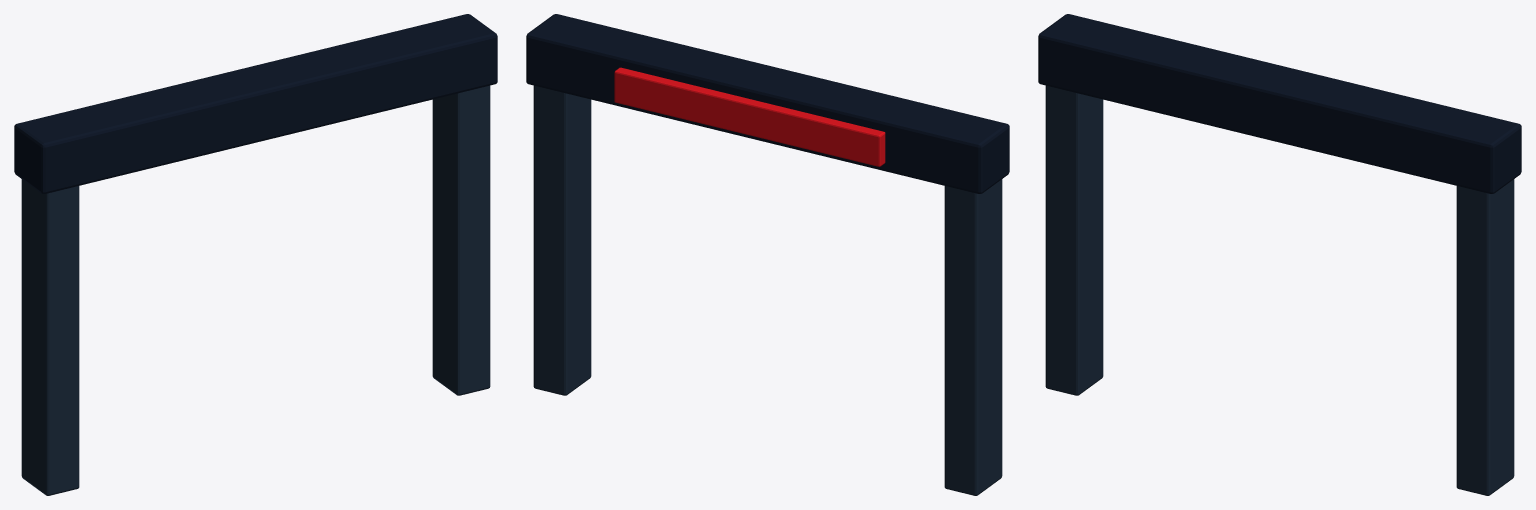
Rendered from neon_start_light_gantry_lod1.obj.
3 views of the same model, side by side, from view 1: azimuth 30°, elevation 25°; view 2: azimuth 150°, elevation 25°; view 3: azimuth 330°, elevation 25° (orthographic).
Parts seen in each view (by area): view 1: race_gantry_lod1_header_M_navy, race_gantry_lod1_post_r_M_gunmetal, race_gantry_lod1_post_l_M_gunmetal; view 2: race_gantry_lod1_header_M_navy, race_gantry_lod1_post_r_M_gunmetal, race_gantry_lod1_post_l_M_gunmetal, race_gantry_lod1_lights_M_red; view 3: race_gantry_lod1_header_M_navy, race_gantry_lod1_post_l_M_gunmetal, race_gantry_lod1_post_r_M_gunmetal.
Boxes of the visible parts, box(x1,y1,x2,y2) form: race_gantry_lod1_header_M_navy: box(14, 14, 497, 193); race_gantry_lod1_post_r_M_gunmetal: box(21, 179, 79, 495); race_gantry_lod1_post_l_M_gunmetal: box(432, 85, 490, 395); race_gantry_lod1_header_M_navy: box(526, 14, 1009, 193); race_gantry_lod1_post_r_M_gunmetal: box(944, 179, 1002, 495); race_gantry_lod1_post_l_M_gunmetal: box(533, 85, 591, 395); race_gantry_lod1_lights_M_red: box(614, 67, 885, 166); race_gantry_lod1_header_M_navy: box(1038, 14, 1521, 193); race_gantry_lod1_post_l_M_gunmetal: box(1456, 179, 1514, 495); race_gantry_lod1_post_r_M_gunmetal: box(1045, 85, 1103, 395).
Bounding box in the file's own units: 3 × 2.23 × 0.41.
